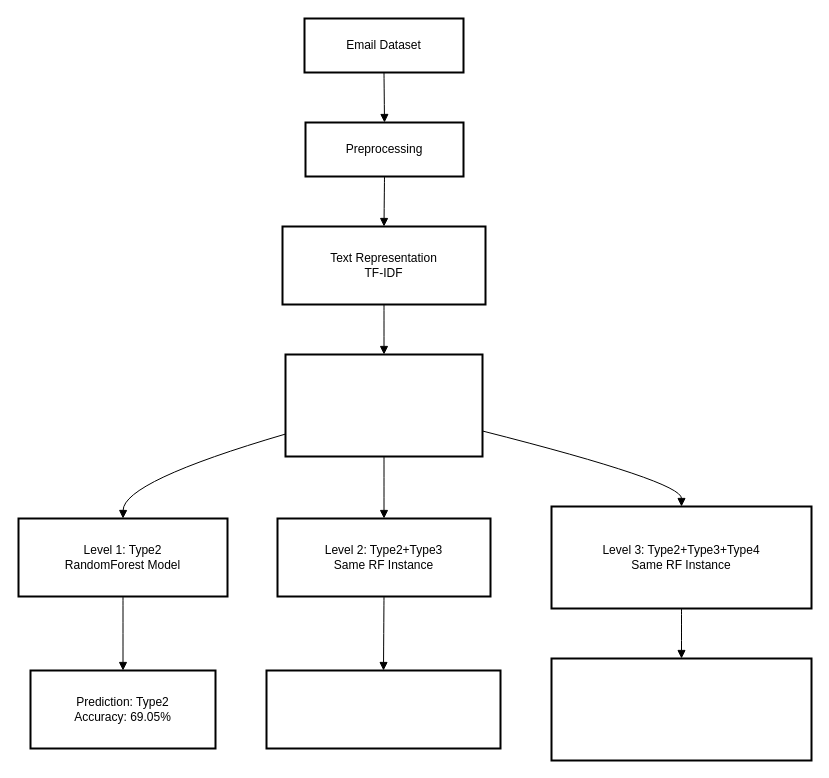
Image size: 829x778. Some labels were removed from this diagram. Here are the shapes that lost their labels. From the top down, the centre of each, then its label:
At point 383,405: "Data Encapsulation X_train, X_test y_train, y_test".
At point 383,709: "Prediction: Type2_Type3 Accuracy: 66.67%".
At point 681,709: "Prediction: Type2_Type3_Type4 Accuracy: 69.05%".
